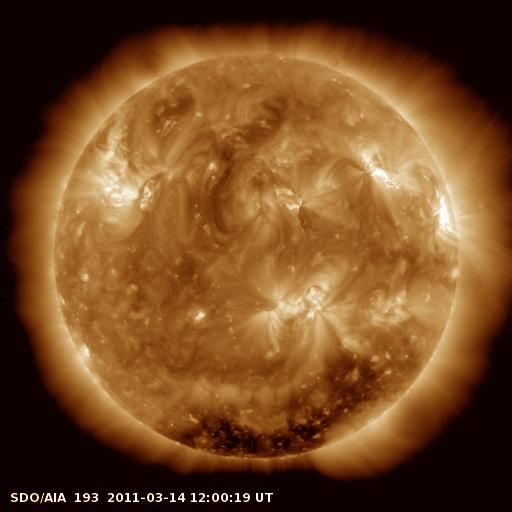coronal_hole: (174, 344, 384, 459)
